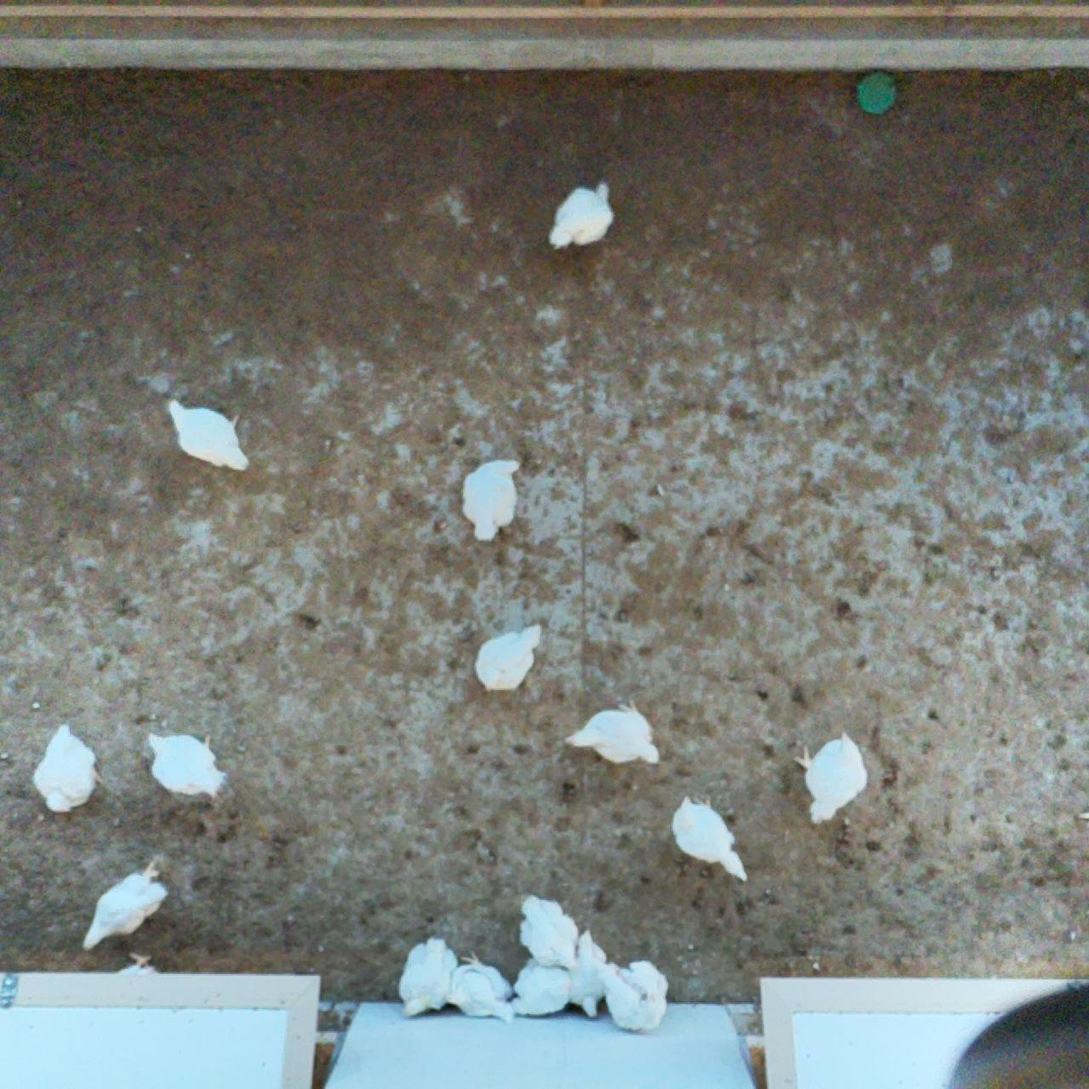chicken: (78, 855, 169, 954), (670, 791, 753, 889), (28, 721, 107, 820), (559, 697, 664, 768), (168, 395, 252, 479), (144, 722, 228, 801), (440, 946, 519, 1025), (459, 454, 527, 545), (472, 616, 549, 696), (392, 932, 461, 1021), (515, 889, 584, 976), (544, 175, 619, 251), (601, 956, 672, 1036), (565, 928, 615, 1020), (510, 952, 576, 1021)
